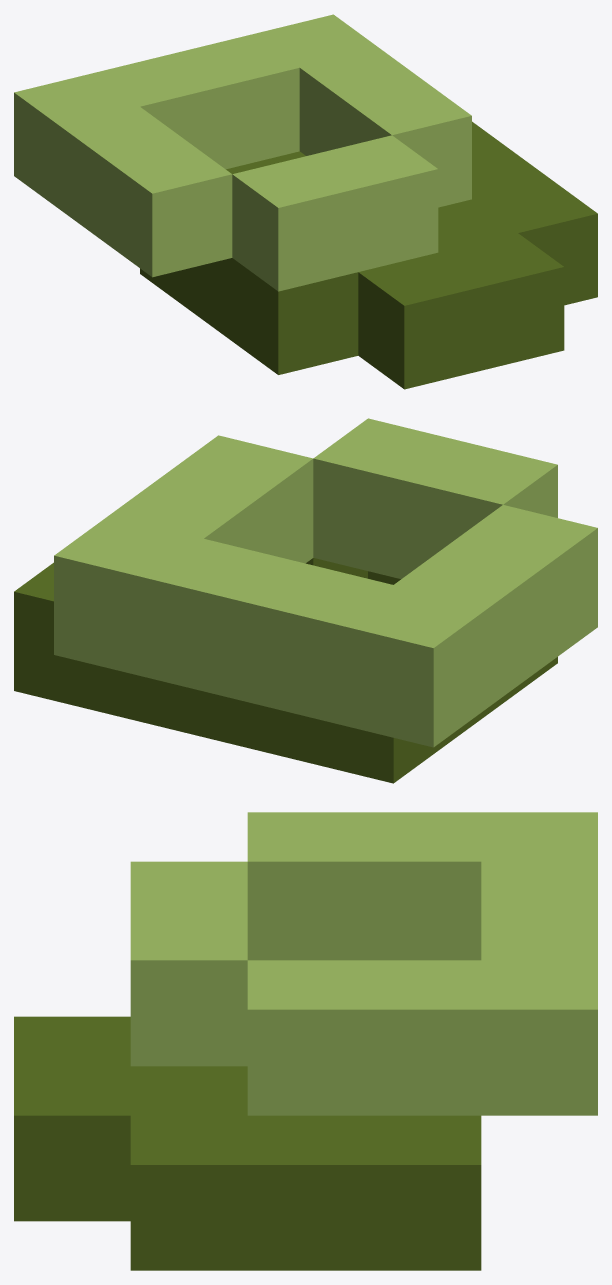
The model's file is grassland.glb.
3 views of the same model, one above another, from view 1: azimuth 30°, elevation 25°; view 2: azimuth 150°, elevation 25°; view 3: azimuth 270°, elevation 25° (orthographic). The views are drawn at different scales.
Parts seen in each view (by area): view 1: shield; view 2: shield; view 3: shield.
Part boxes in pixels (bbox=[...]): shield: bbox=[14, 14, 597, 389]; shield: bbox=[14, 418, 597, 783]; shield: bbox=[14, 812, 597, 1270].
Size of the model in its own units: 0.3125 by 0.125 by 0.3125.
1 material, 1 textured.
